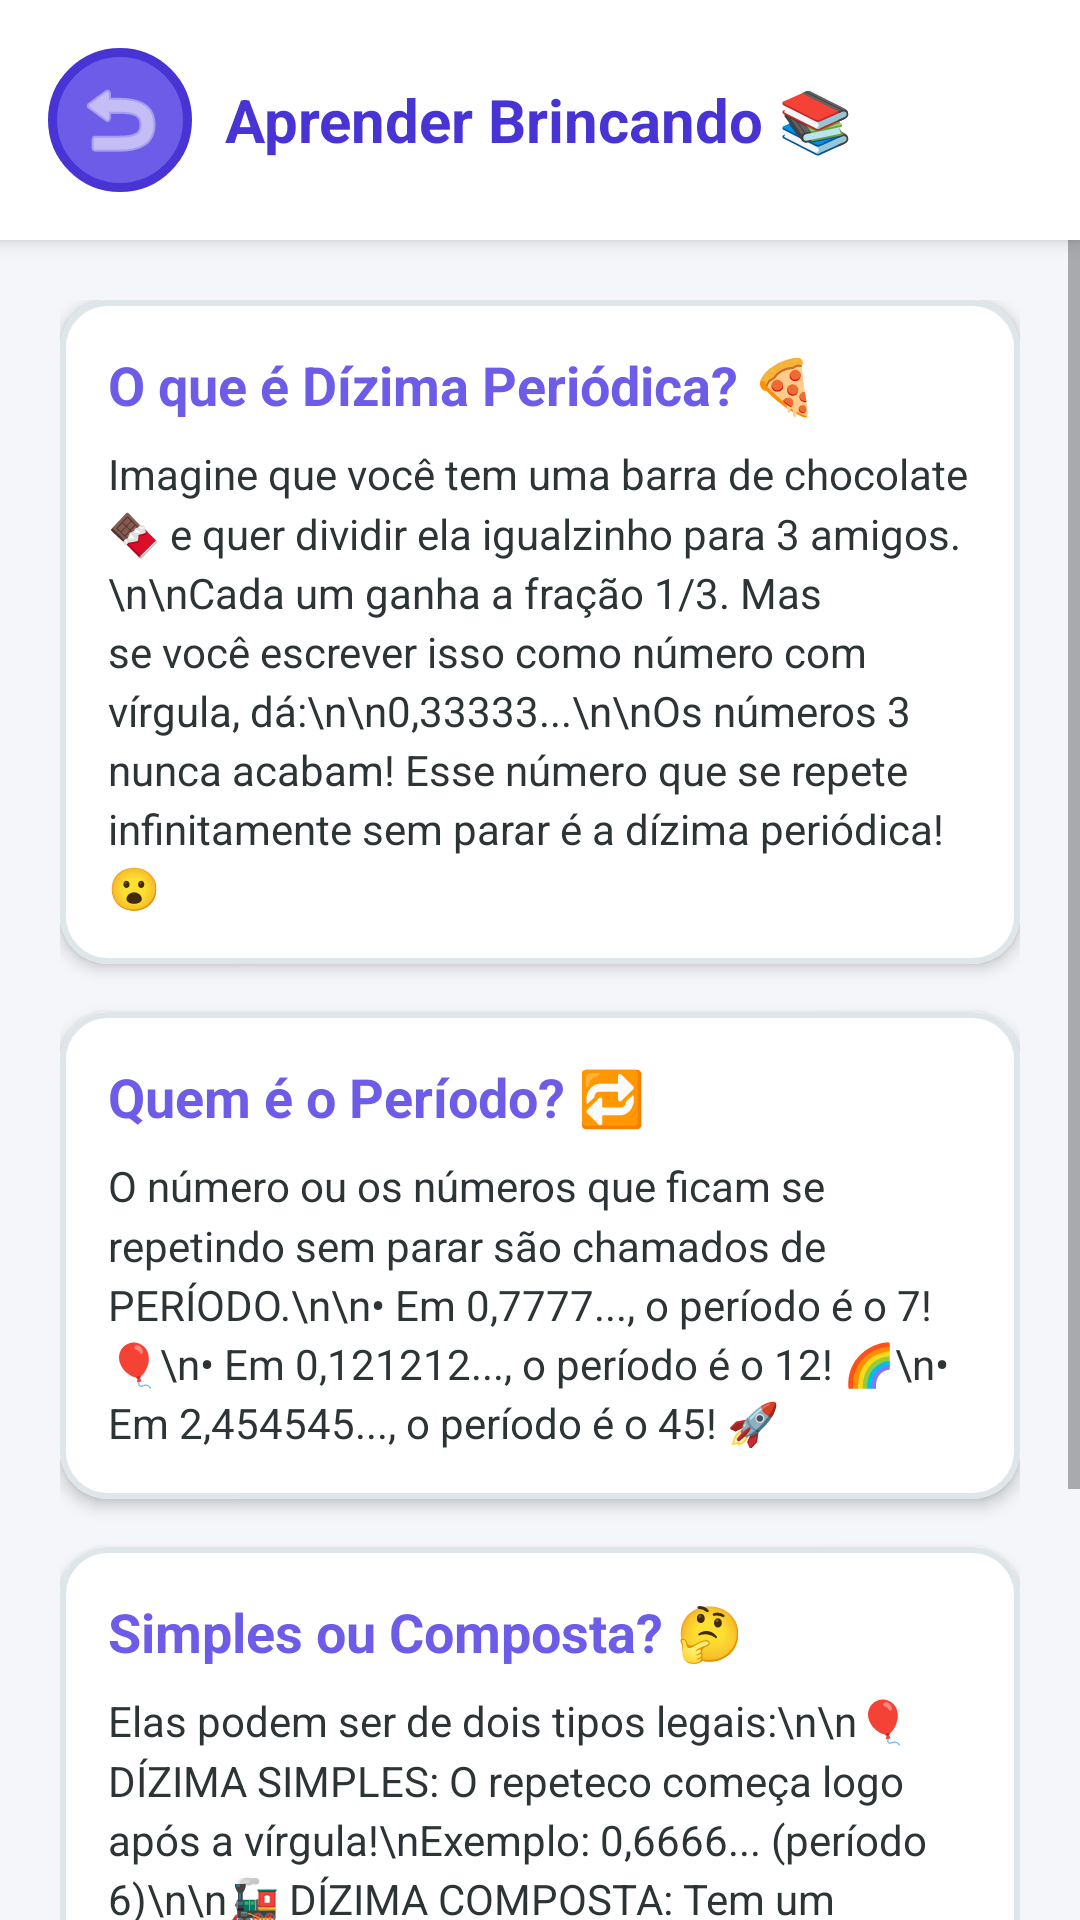

Icon bounding boxes for this 1080×1920 phone screenshot, format (x1, y1, x2, y2):
Voltar ao menu: (48, 48, 192, 192)
